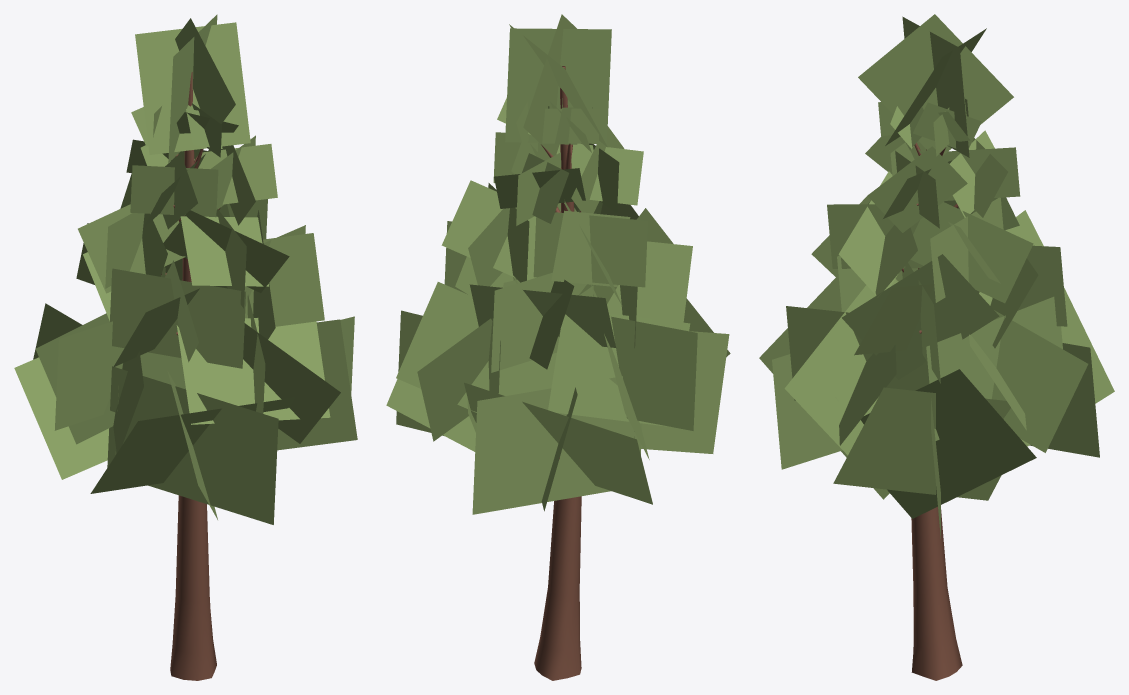
Rendered from larch.glb.
3 renders of one model, left to right at view 1: azimuth 30°, elevation 25°; view 2: azimuth 150°, elevation 25°; view 3: azimuth 270°, elevation 25°, orthographic.
Parts seen in each view (by area): view 1: Foliage, larch; view 2: Foliage, larch; view 3: Foliage, larch.
Part boxes in pixels (bbox=[...]): Foliage: bbox=[14, 14, 357, 524]; larch: bbox=[161, 72, 220, 680]; Foliage: bbox=[386, 14, 730, 514]; larch: bbox=[534, 66, 581, 680]; Foliage: bbox=[759, 14, 1114, 538]; larch: bbox=[901, 143, 962, 680].
Size of the model in its own units: 4.94 by 10.44 by 5.15.
